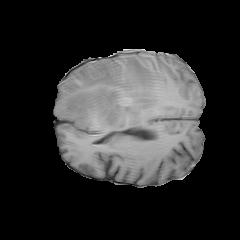glioma: (63, 56, 166, 130)
